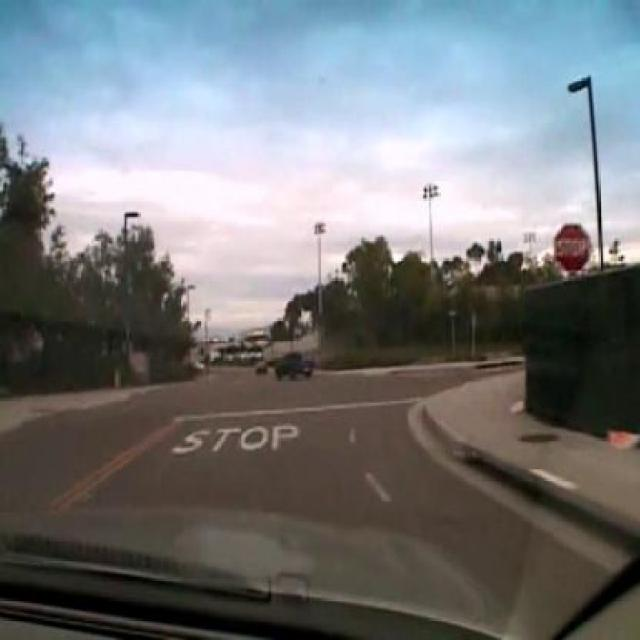Stop: (552, 220, 592, 274)
